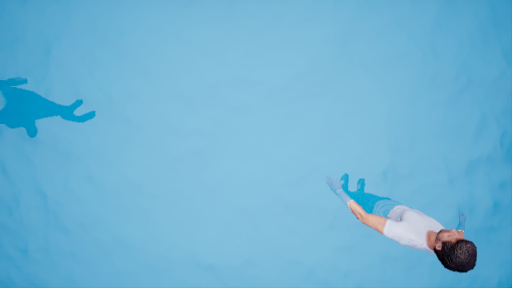person: (330, 174, 478, 272)
